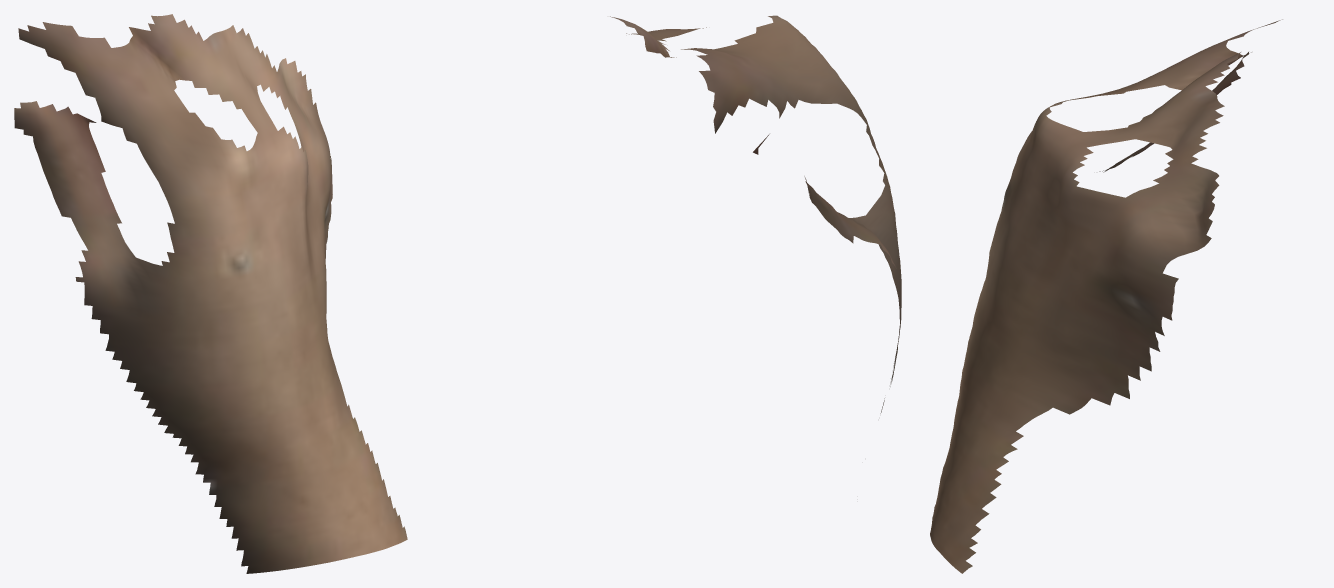
3 views of the same model, side by side, from view 1: azimuth 30°, elevation 25°; view 2: azimuth 150°, elevation 25°; view 3: azimuth 270°, elevation 25° (orthographic). The views are drawn at different scales.
Parts seen in each view (by area): view 1: world; view 2: world; view 3: world.
Boxes of the visible parts, box(x1,y1,x2,y2) form: world: box(14, 14, 407, 573); world: box(610, 15, 901, 413); world: box(930, 19, 1282, 573).
Bounding box in the file's own units: 0.1804 × 0.2836 × 0.2107.
1 material, 1 textured.
